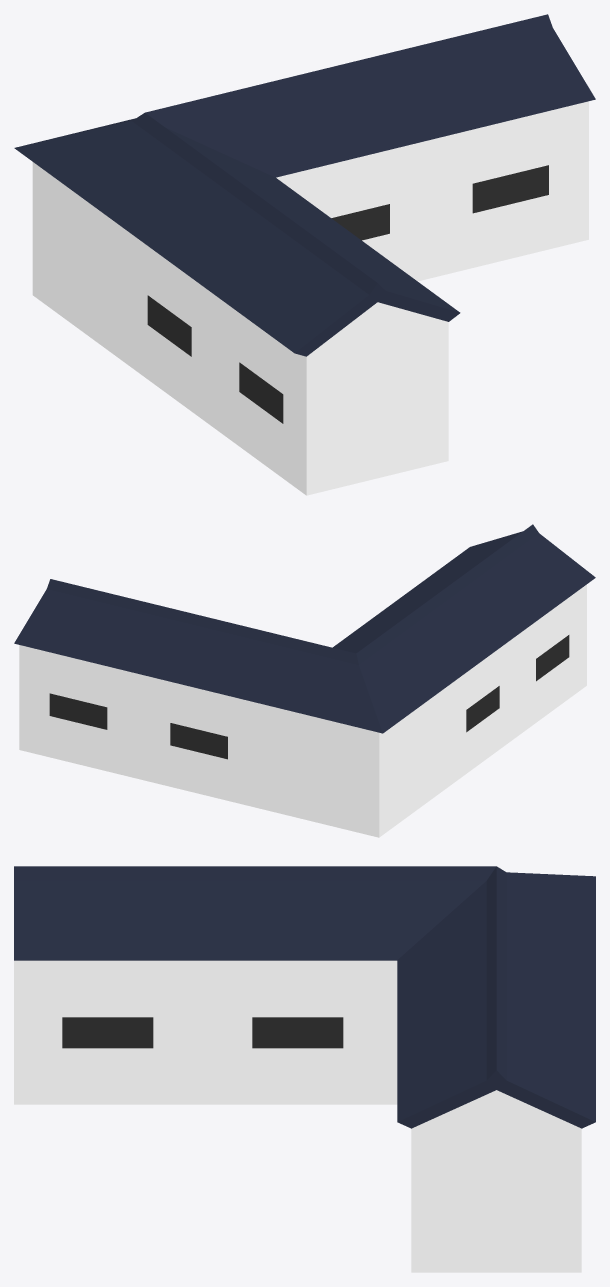
File: wall-japan-edge_medium.glb
The picture shows the model from 3 angles, top to bottom: view 1: azimuth 30°, elevation 25°; view 2: azimuth 150°, elevation 25°; view 3: azimuth 270°, elevation 25°; orthographic projection. The views are drawn at different scales.
Parts seen in each view (by area): view 1: wall-japan-edge_medium; view 2: wall-japan-edge_medium; view 3: wall-japan-edge_medium.
Part boxes in pixels (bbox=[...]): wall-japan-edge_medium: bbox=[14, 14, 595, 495]; wall-japan-edge_medium: bbox=[14, 524, 595, 837]; wall-japan-edge_medium: bbox=[14, 866, 595, 1272].
Bounding box in the file's own units: 10.25 × 3.94 × 10.25.
1 material, 1 textured.
